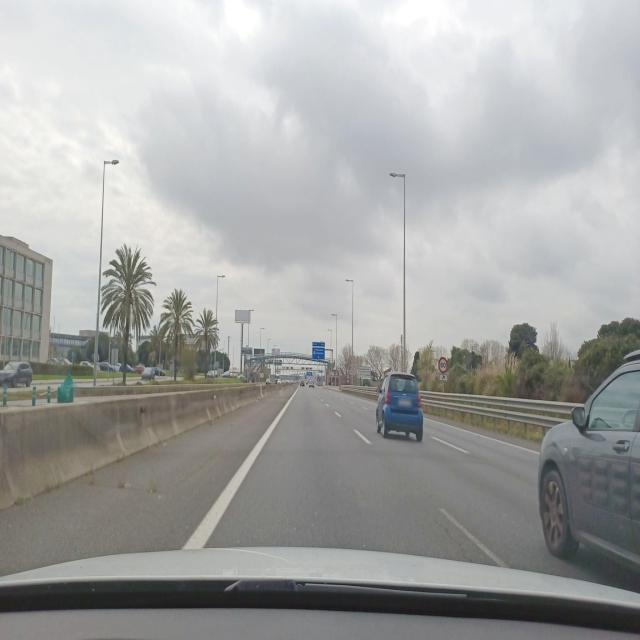car: (536, 344, 640, 595), (375, 370, 424, 442), (0, 360, 33, 388), (141, 366, 164, 382), (134, 362, 145, 373)
